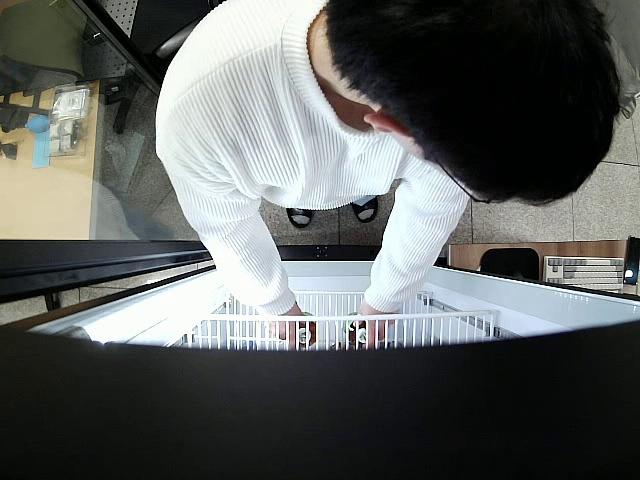00_hand: (353, 302, 396, 347), (267, 302, 305, 351)
19_17cha: (342, 314, 370, 343), (298, 313, 319, 347)
